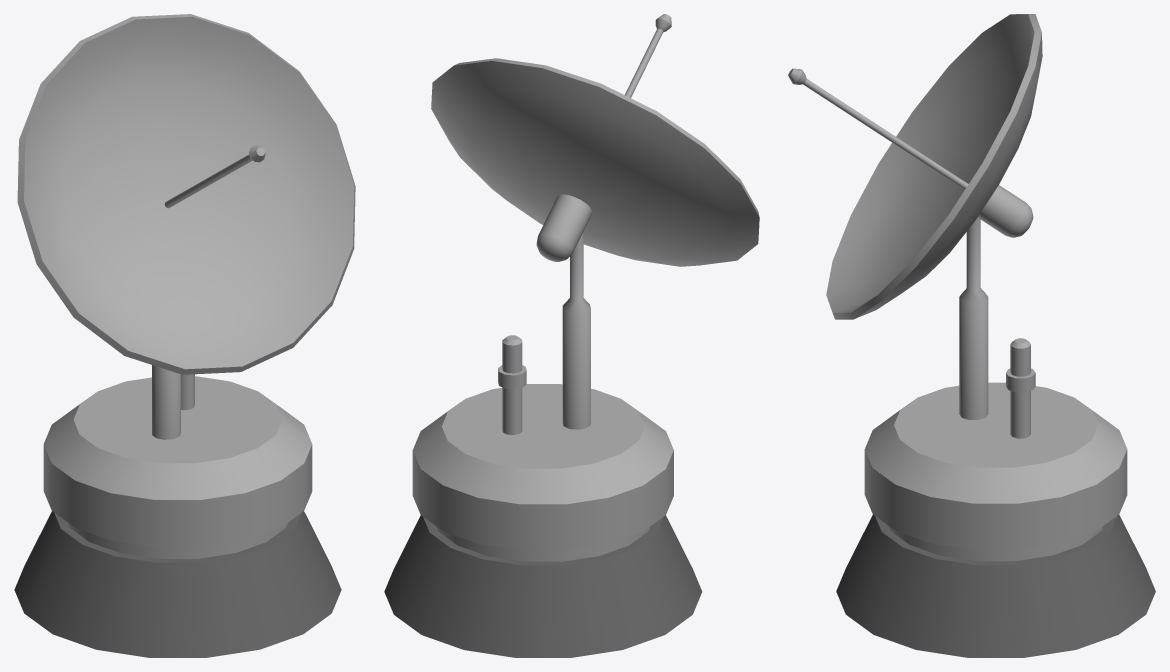
Rendered from radar.glb.
3 views of the same model, side by side, from view 1: azimuth 30°, elevation 25°; view 2: azimuth 150°, elevation 25°; view 3: azimuth 270°, elevation 25° (orthographic). The views are drawn at different scales.
Visible parts, largest first — view 1: Roof_Radar; view 2: Roof_Radar; view 3: Roof_Radar.
Boxes of the visible parts, x1,y1,x2,y2 form: Roof_Radar: (14, 14, 355, 657); Roof_Radar: (384, 14, 759, 657); Roof_Radar: (788, 14, 1155, 657).
Size of the model in its own units: 1.63 by 2.71 by 1.65.
1 material, 1 textured.
